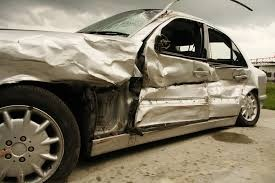Smashed: (15, 33, 252, 137)
